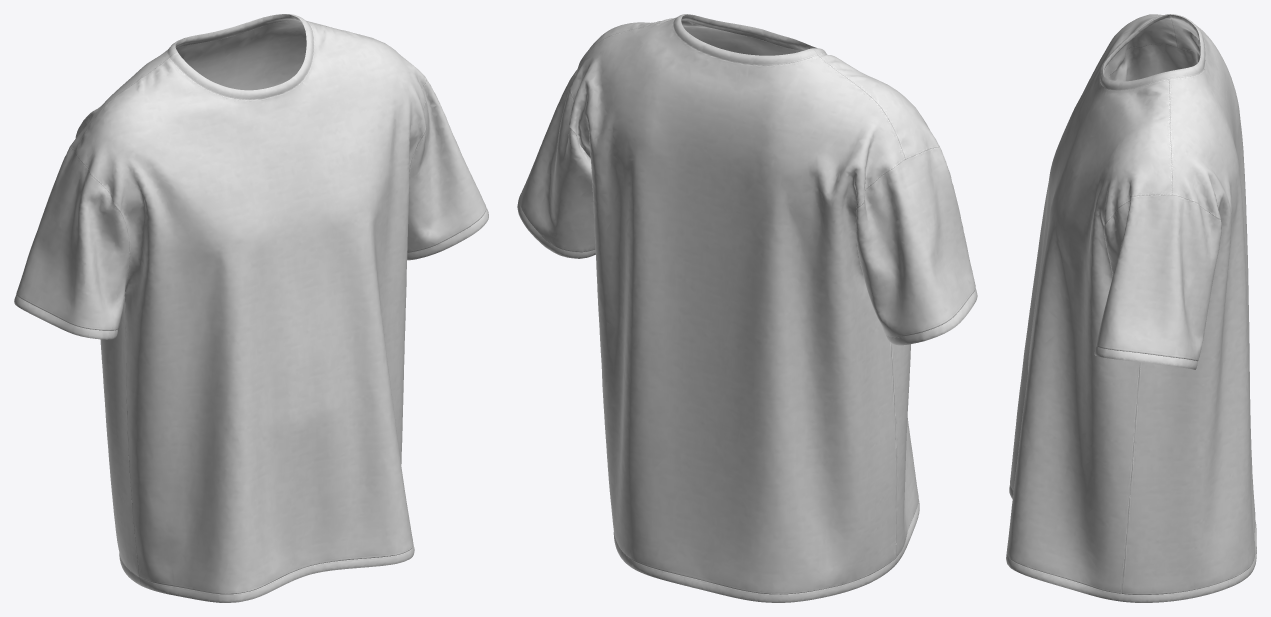
The model's file is OverSized.glb.
The picture shows the model from 3 angles, left to right: view 1: azimuth 30°, elevation 25°; view 2: azimuth 150°, elevation 25°; view 3: azimuth 270°, elevation 25°; orthographic projection. The views are drawn at different scales.
Visible parts, largest first — view 1: Object_2; view 2: Object_2; view 3: Object_2.
Part boxes in pixels (x1,y1,x2,y2): Object_2: (14, 14, 488, 602); Object_2: (517, 14, 977, 602); Object_2: (1006, 14, 1256, 602).
Size of the model in its own units: 20873 by 23290 by 10526.
Materials: 1 (1 with a texture image).
